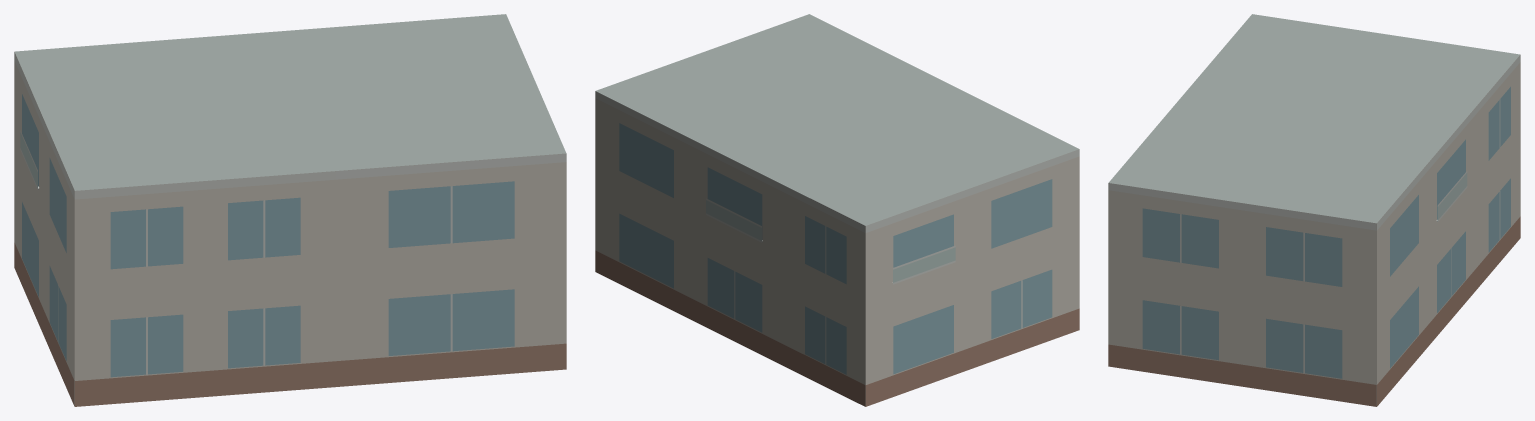
The model's file is survey-upis-32822299.glb.
3 views of the same model, side by side, from view 1: azimuth 30°, elevation 25°; view 2: azimuth 150°, elevation 25°; view 3: azimuth 270°, elevation 25° (orthographic). The views are drawn at different scales.
Parts seen in each view (by area): view 1: survey-upis-32822299.tmp; view 2: survey-upis-32822299.tmp; view 3: survey-upis-32822299.tmp.
Boxes of the visible parts, left/top/right/bottom form: survey-upis-32822299.tmp: left=14, top=14, right=566, bottom=406; survey-upis-32822299.tmp: left=595, top=14, right=1079, bottom=406; survey-upis-32822299.tmp: left=1108, top=14, right=1520, bottom=406.
Size of the model in its own units: 14.93 by 6.1 by 12.43.
